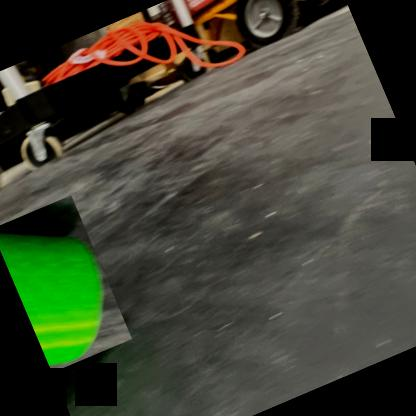green cylinder: (0, 194, 132, 372)
